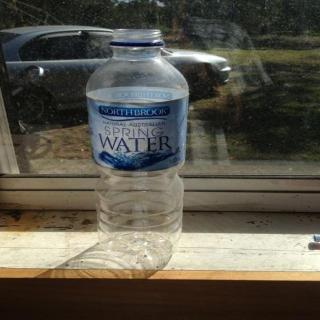Plastic-bottle: (85, 26, 191, 266)
